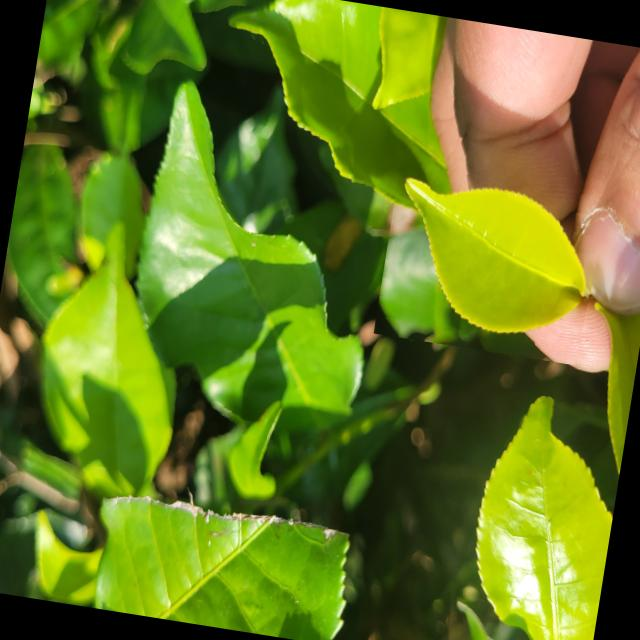Catagory A(1-2 days): (373, 152, 612, 366)
